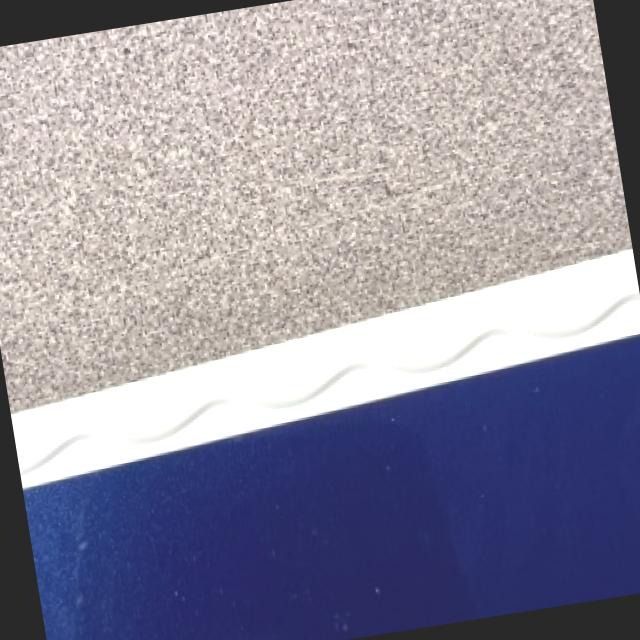healthy: (11, 249, 640, 640)
